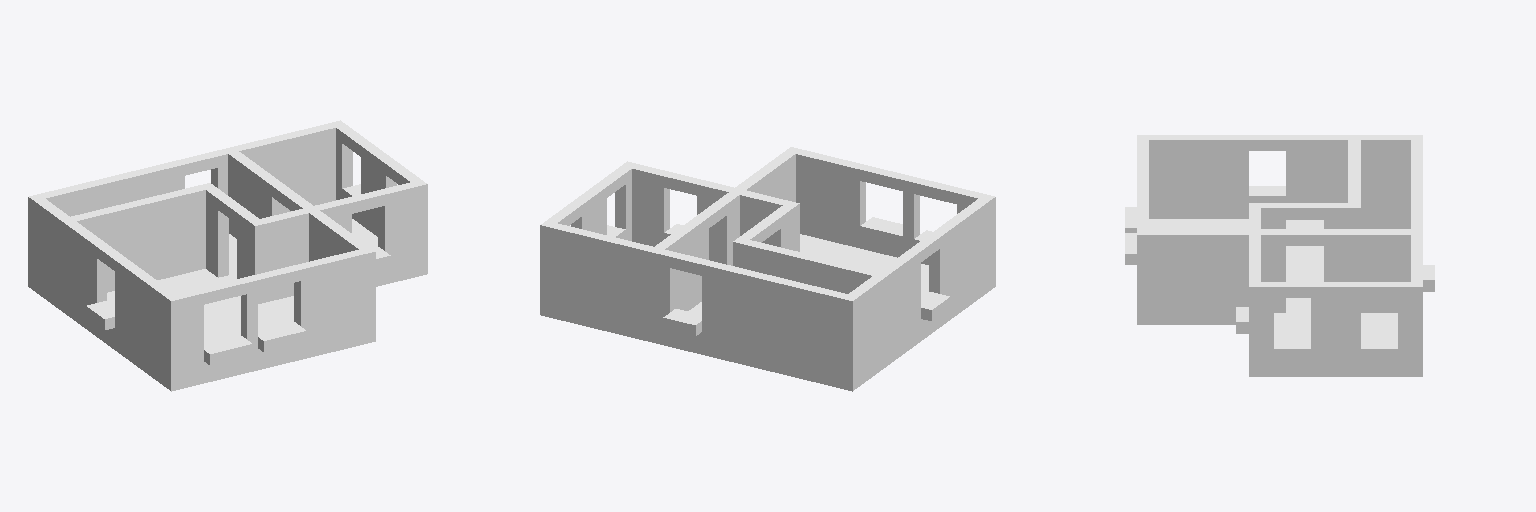
The model's file is floor_two.obj.
3 views of the same model, side by side, from view 1: azimuth 30°, elevation 25°; view 2: azimuth 150°, elevation 25°; view 3: azimuth 270°, elevation 25° (orthographic).
Parts seen in each view (by area): view 1: nth floor; view 2: nth floor; view 3: nth floor.
Boxes of the visible parts, x1,y1,x2,y2 form: nth floor: [28, 120, 427, 391]; nth floor: [540, 147, 995, 391]; nth floor: [1125, 135, 1434, 376].
Size of the model in its own units: 3.1 by 0.8 by 2.5.